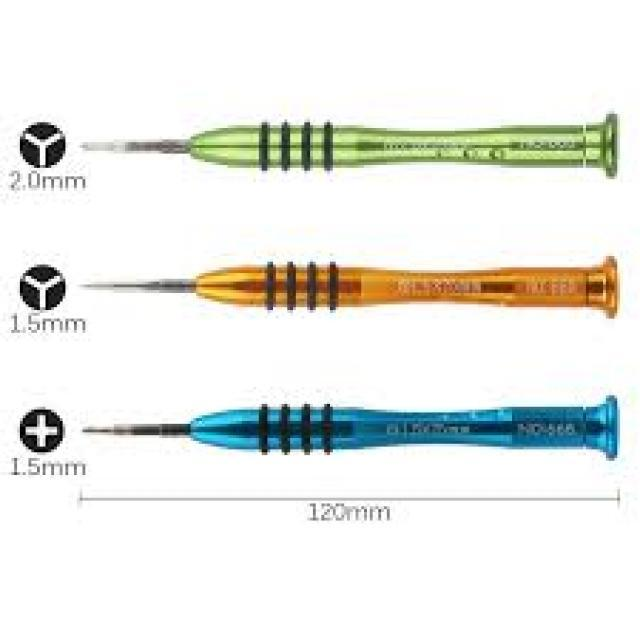screwdriver: (82, 108, 623, 179), (72, 254, 618, 318), (78, 396, 624, 460)
